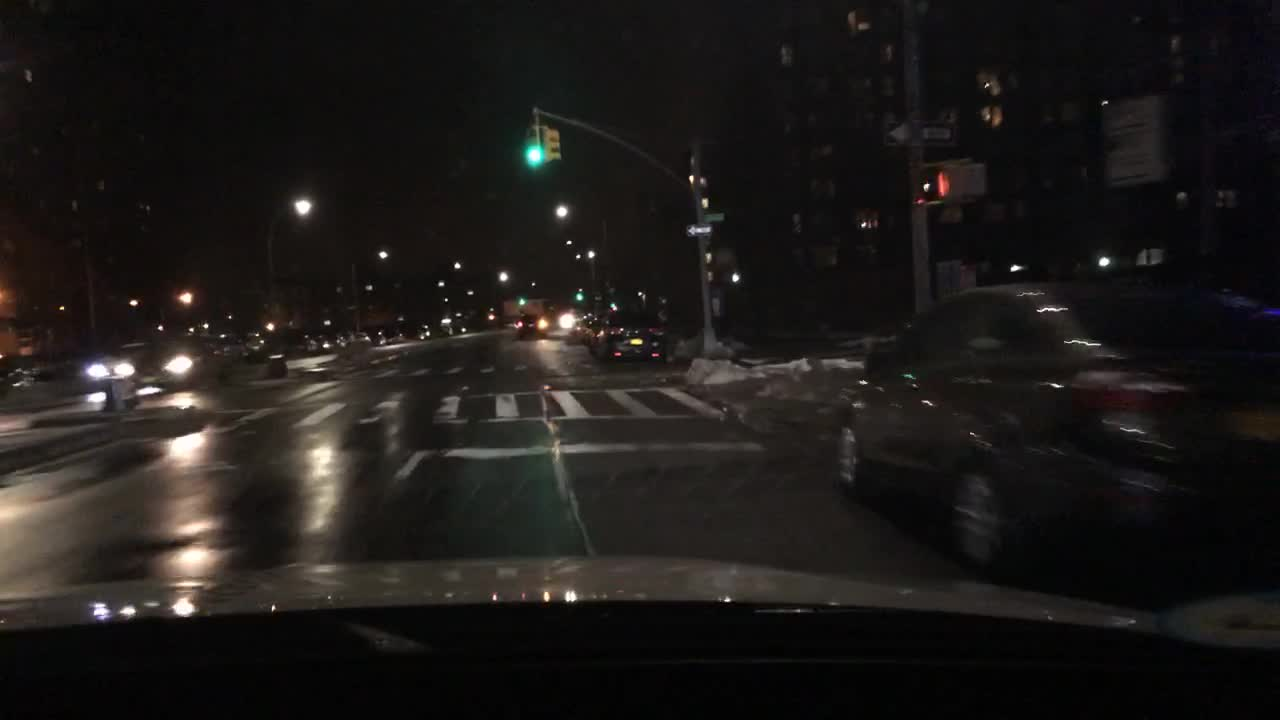car: (835, 282, 1279, 577), (111, 334, 207, 393), (585, 309, 670, 368), (255, 322, 320, 359), (0, 347, 55, 388), (87, 341, 128, 388), (202, 334, 249, 364), (565, 310, 597, 346), (514, 314, 548, 337), (305, 324, 330, 351), (324, 322, 354, 344), (381, 319, 406, 344), (401, 320, 432, 339), (364, 322, 388, 344), (432, 317, 459, 336), (344, 327, 371, 346), (454, 319, 469, 334)
traffic light: (935, 162, 990, 202), (523, 123, 541, 165), (543, 125, 560, 158), (573, 280, 584, 300), (516, 288, 525, 307)
traffic sign: (881, 116, 957, 148), (683, 224, 714, 236), (705, 207, 725, 221)
